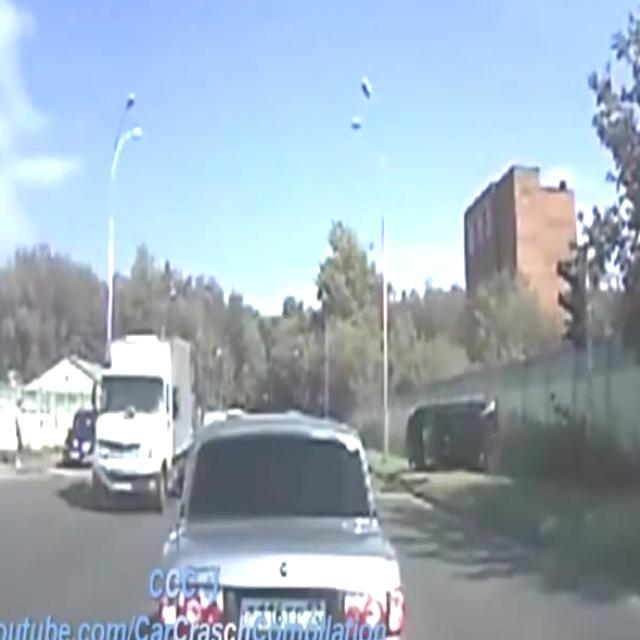accident: (399, 377, 509, 475)
